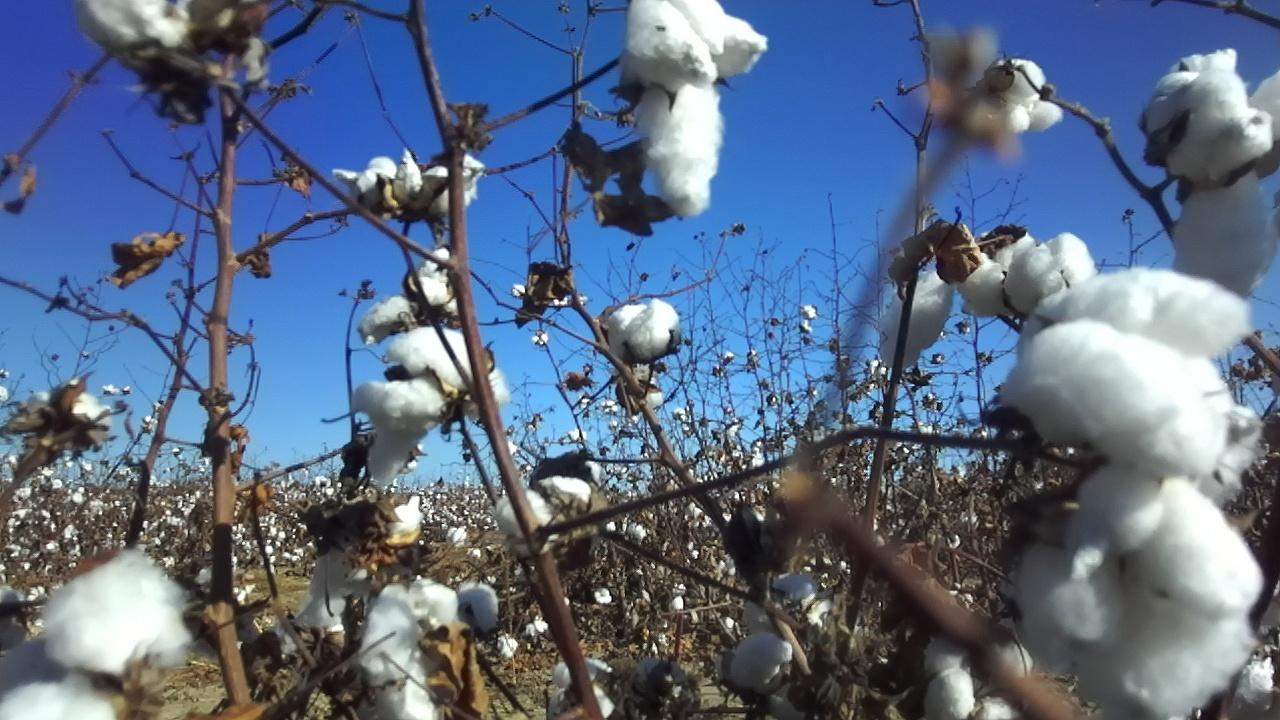cotton_ready: (1017, 469, 1265, 719), (1010, 272, 1250, 474), (1145, 50, 1277, 298), (624, 0, 772, 212), (0, 557, 192, 720), (351, 325, 510, 482), (355, 324, 482, 481), (359, 572, 457, 720), (501, 460, 609, 554), (925, 629, 1033, 720), (359, 250, 460, 337), (83, 0, 192, 74), (1008, 235, 1099, 318), (959, 224, 1036, 321), (328, 154, 447, 214), (879, 275, 950, 372), (744, 574, 837, 639), (299, 538, 360, 629), (621, 657, 699, 718), (998, 61, 1060, 137), (724, 627, 794, 694), (29, 389, 110, 444), (547, 659, 620, 720), (612, 297, 679, 355), (433, 155, 482, 213)
